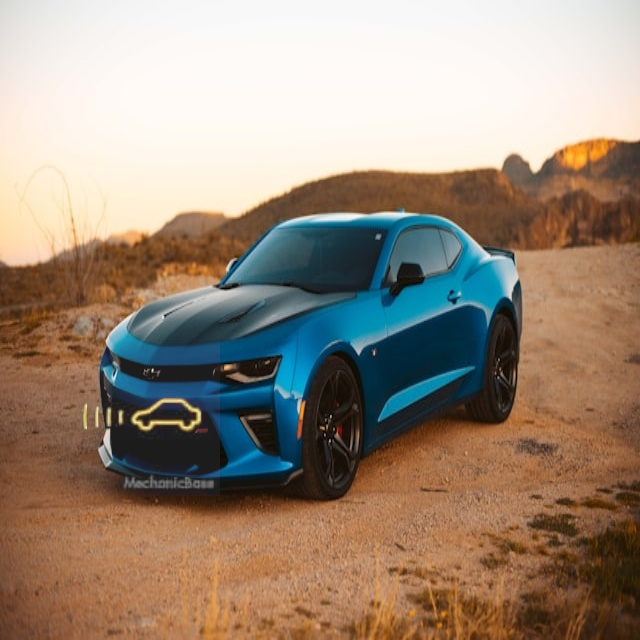symbol: (62, 338, 220, 496)
